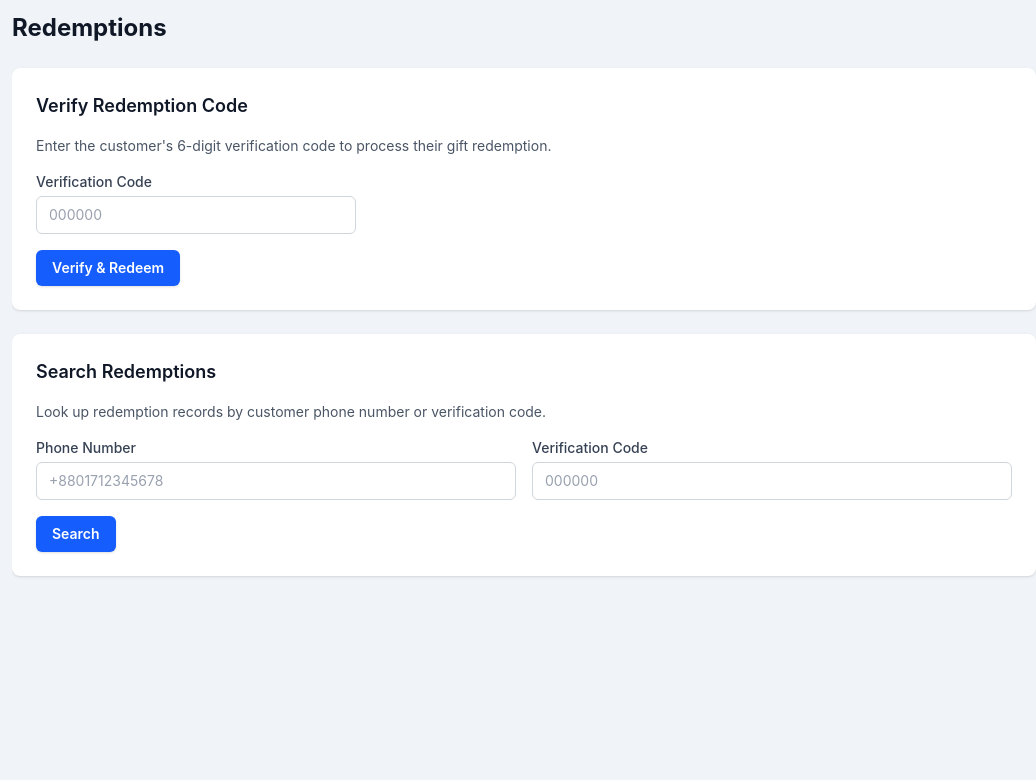
Test: RedemptionsPage › Search Form › shows error for invalid phone format
Type "01712345678" into the field with id "search-phone" at (276, 481), box [36, 462, 516, 500]
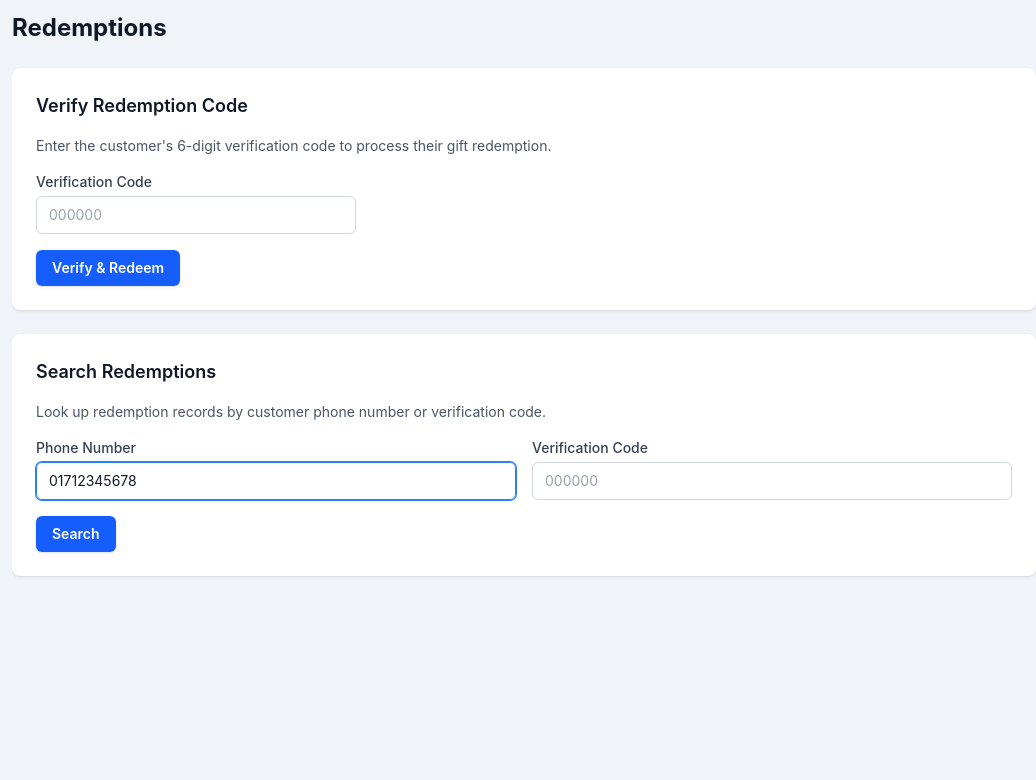
Click the button "Search" at (76, 534), box [36, 516, 116, 552]
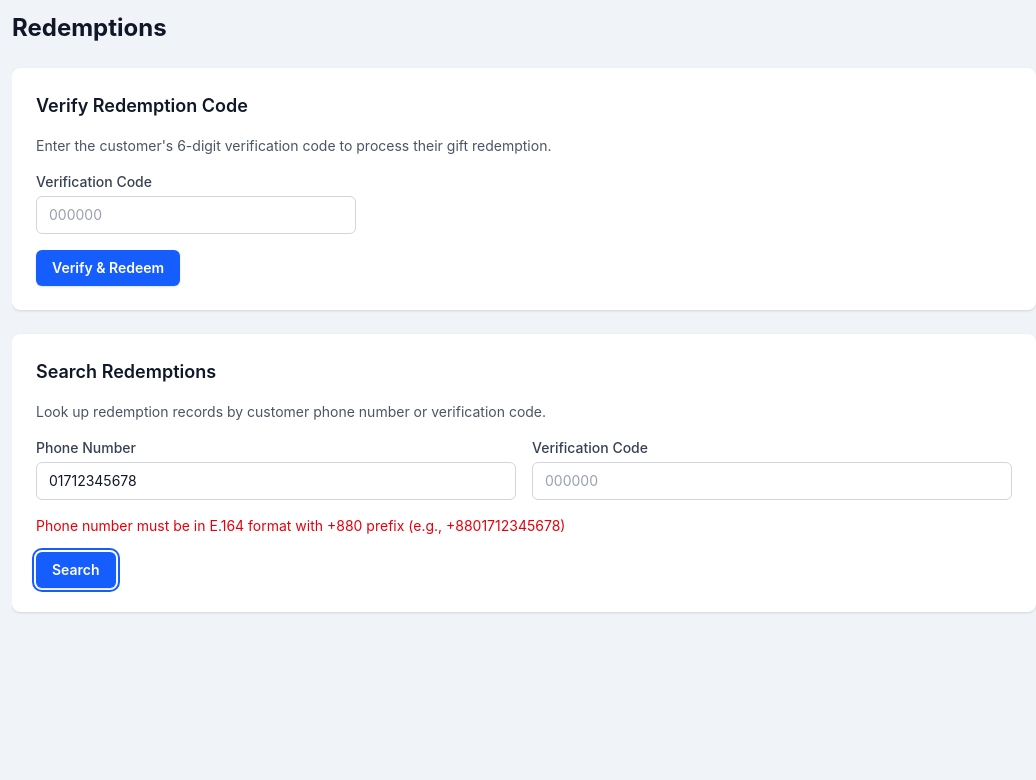
Check: the text "Phone number must be in E.164 format with +880 prefix (e.g., +8801712345678)" is shown, box [36, 517, 566, 534]
